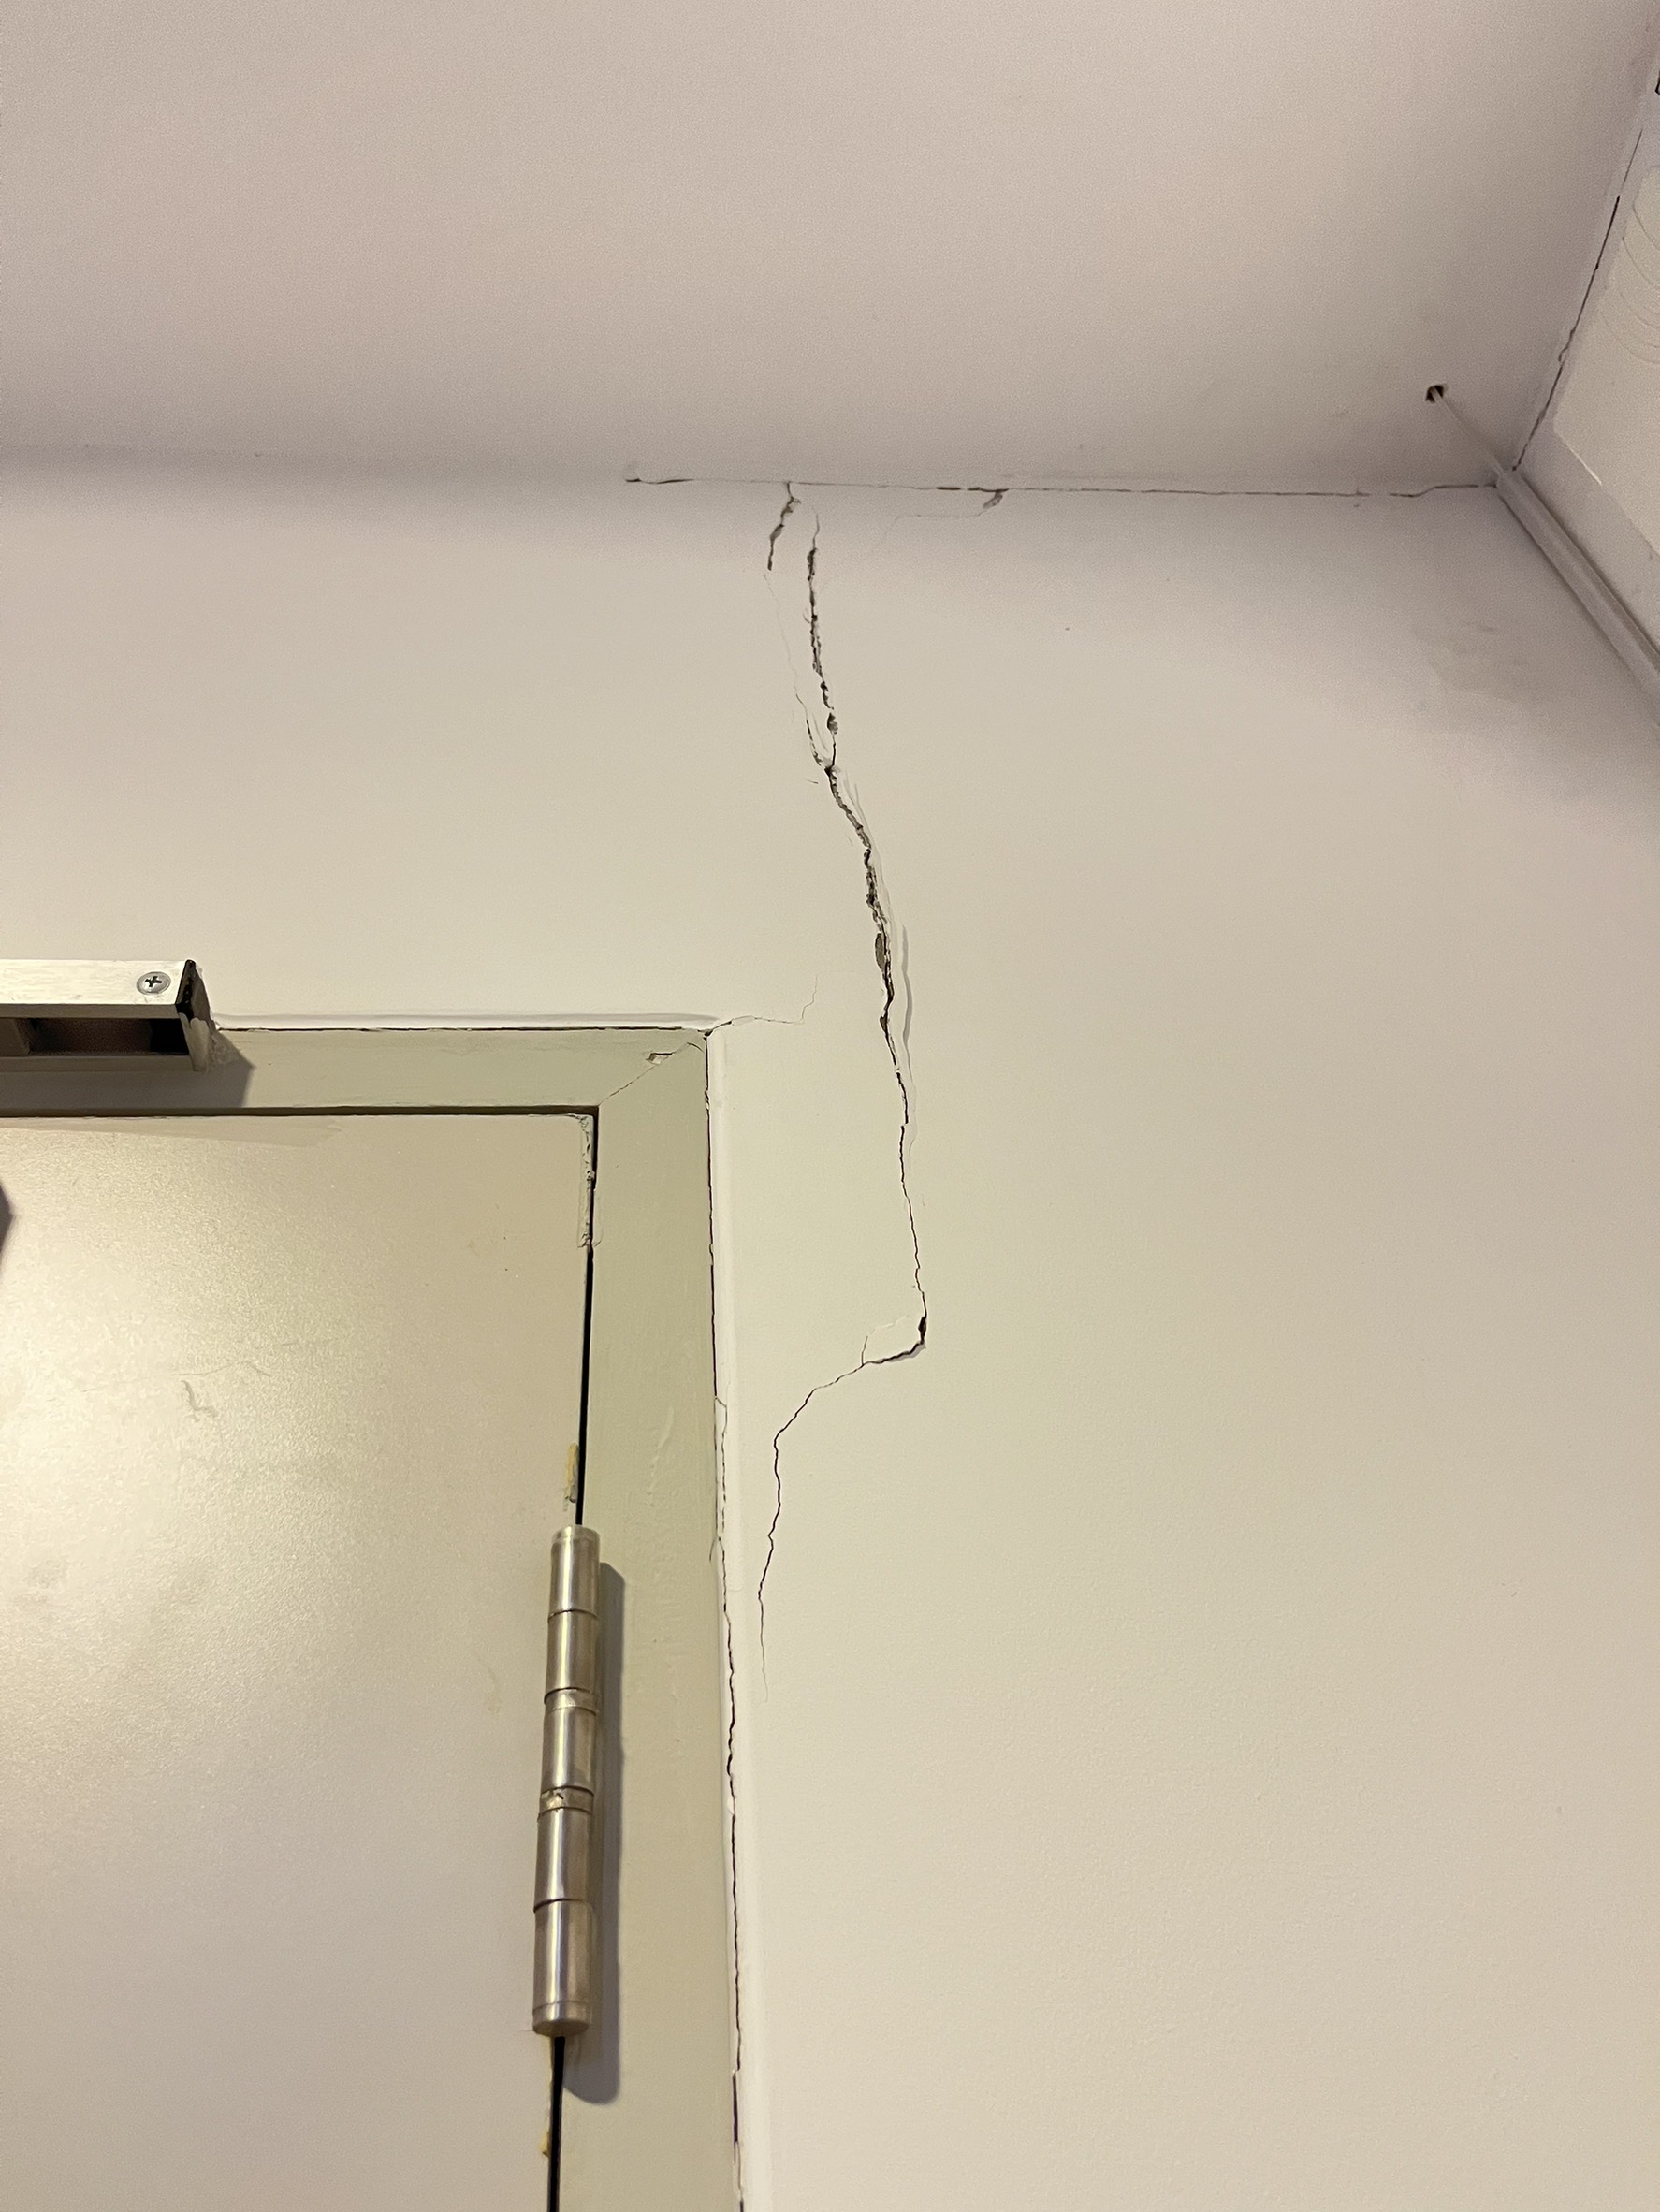Low: (710, 462, 1024, 1651)
